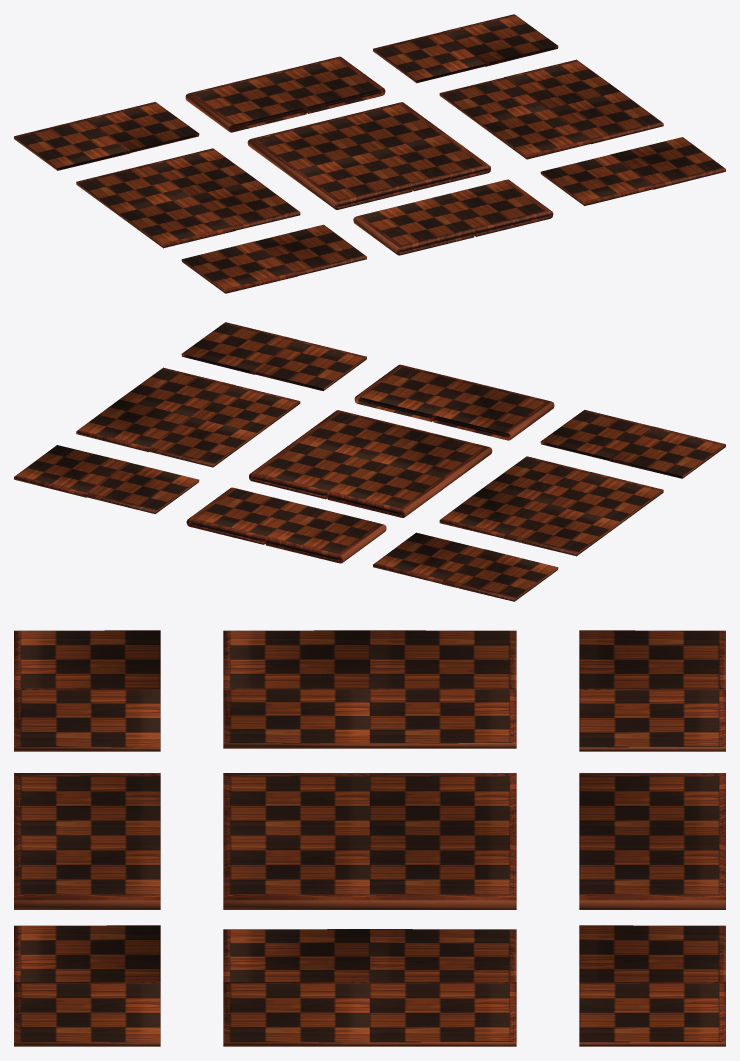
File: TopologyFlat.fbx
The picture shows the model from 3 angles, top to bottom: view 1: azimuth 30°, elevation 25°; view 2: azimuth 150°, elevation 25°; view 3: azimuth 270°, elevation 25°; orthographic projection. The views are drawn at different scales.
Parts seen in each view (by area): view 1: Standard.001; view 2: Standard.001; view 3: Standard.001.
Boxes of the visible parts, x1,y1,x2,y2 form: Standard.001: (14,14,725,293); Standard.001: (14,322,725,601); Standard.001: (14,630,725,1046).
Size of the model in its own units: 6.98 by 5.1 by 0.0973.
